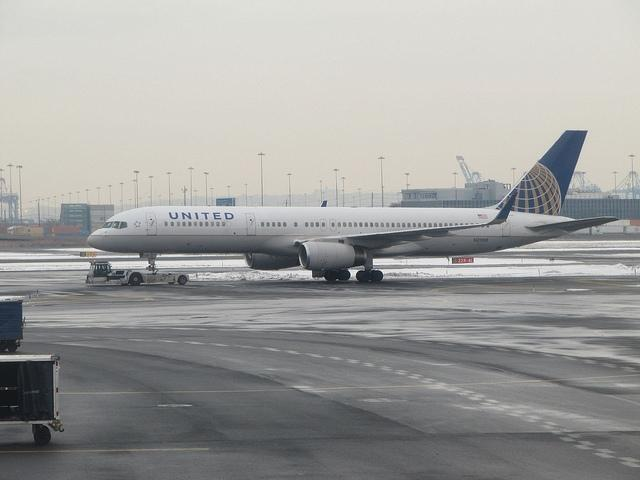truck: (85, 260, 188, 286), (1, 299, 27, 352)
